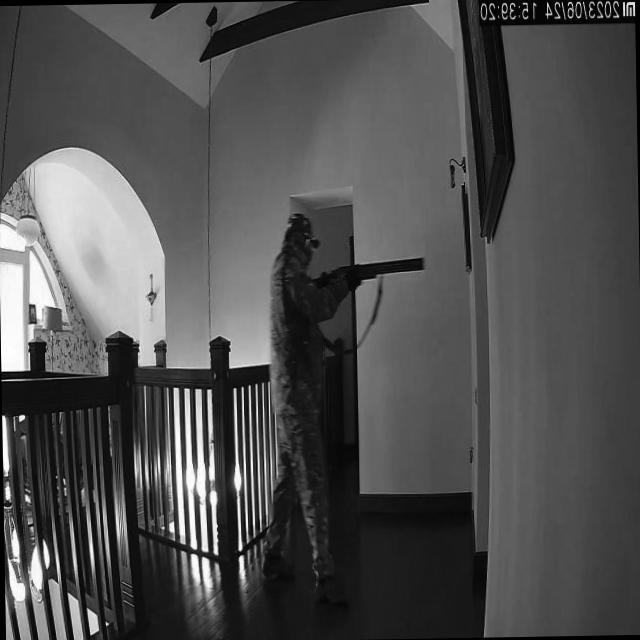gun: (310, 253, 425, 290)
person with a gun: (254, 206, 432, 606)
